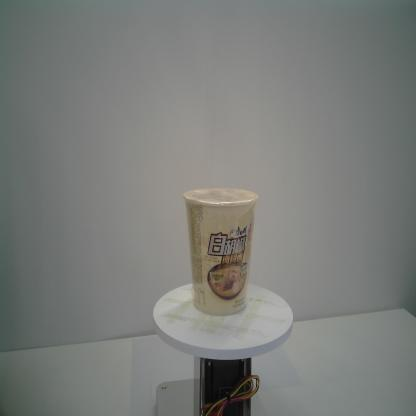Instant Noodles: (183, 187, 259, 317)
